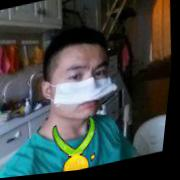WRONG: (49, 50, 119, 129)
